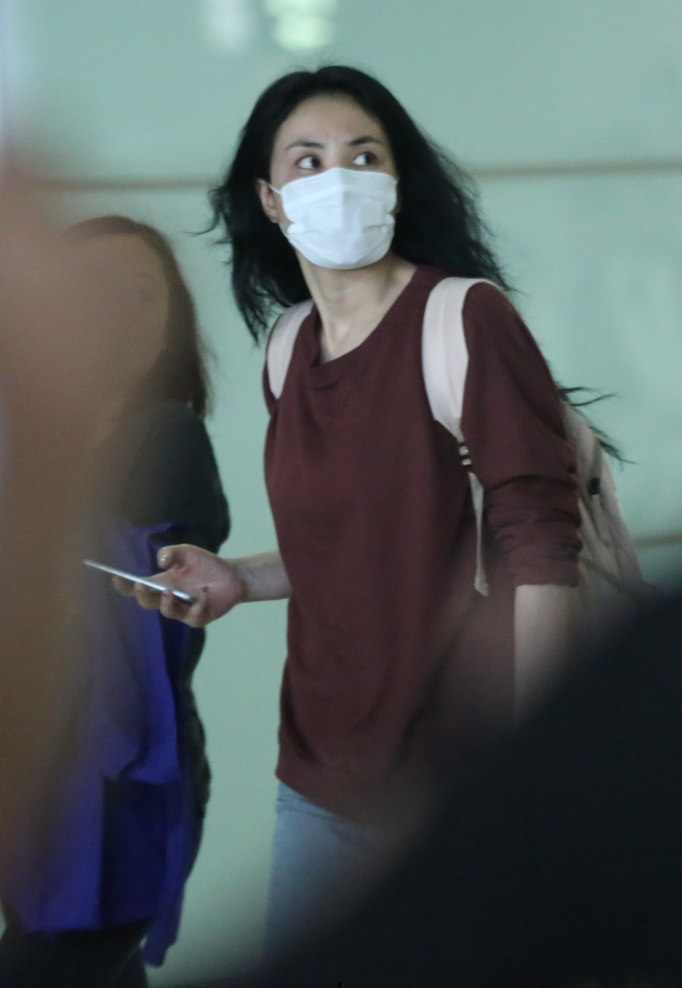face_mask: (277, 100, 397, 266)
